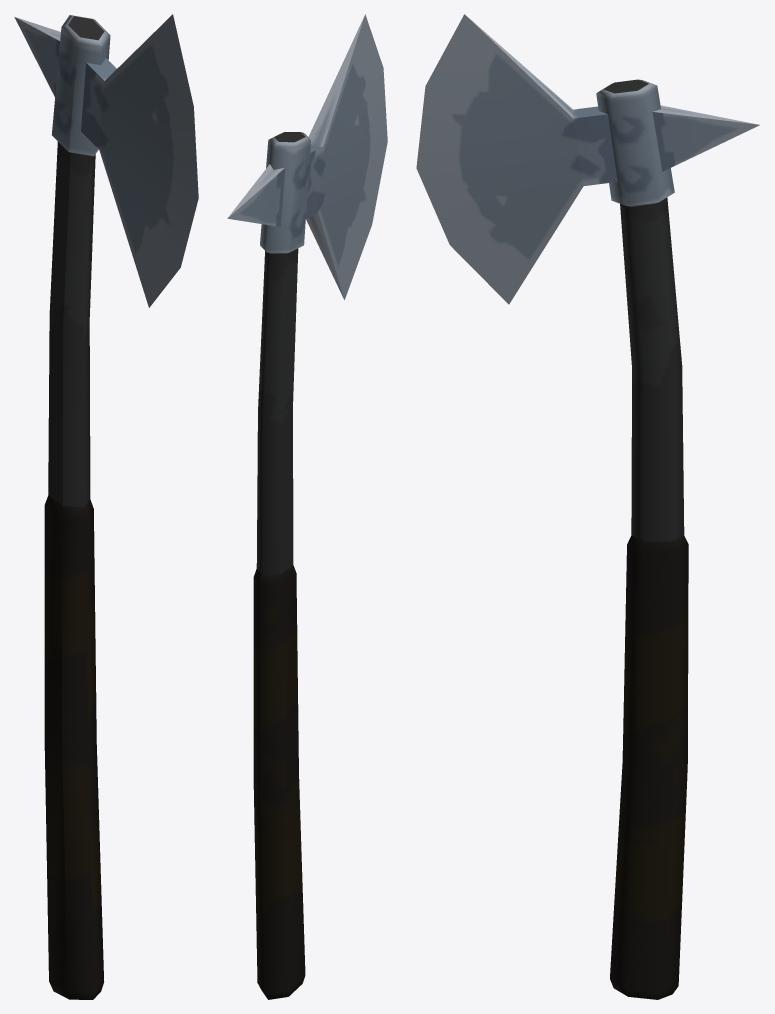
File: Axe1.fbx
The picture shows the model from 3 angles, left to right: view 1: azimuth 30°, elevation 25°; view 2: azimuth 150°, elevation 25°; view 3: azimuth 270°, elevation 25°; orthographic projection. The views are drawn at different scales.
Visible parts, largest first — view 1: Axe1; view 2: Axe1; view 3: Axe1.
Part boxes in pixels (x1,y1,x2,y2): Axe1: [14, 14, 198, 999]; Axe1: [227, 14, 387, 999]; Axe1: [416, 14, 759, 999].
Bounding box in the file's own units: 4.82 × 132 × 42.14.
